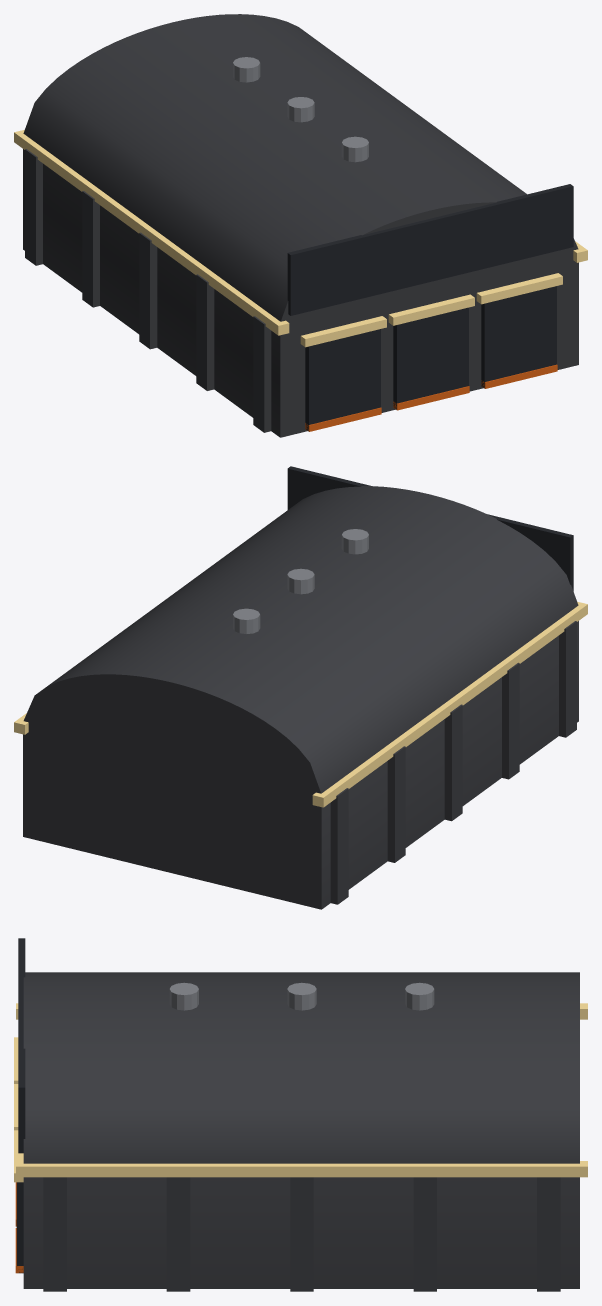
Rendered from dt_bld_hangar.fbx.
The picture shows the model from 3 angles, top to bottom: view 1: azimuth 30°, elevation 25°; view 2: azimuth 150°, elevation 25°; view 3: azimuth 270°, elevation 25°; orthographic projection. The views are drawn at different scales.
Parts seen in each view (by area): view 1: concrete_1, panel_1, gold_1, steel_1, orange_1; view 2: concrete_1, gold_1, panel_1, steel_1; view 3: concrete_1, gold_1, steel_1, panel_1.
Boxes of the visible parts, box(x1,y1,x2,y2) form: concrete_1: box(23, 14, 578, 437); panel_1: box(287, 184, 573, 431); gold_1: box(14, 130, 587, 347); steel_1: box(233, 57, 368, 162); orange_1: box(305, 364, 557, 431); concrete_1: box(23, 486, 578, 909); gold_1: box(14, 601, 587, 807); panel_1: box(287, 466, 573, 590); steel_1: box(233, 529, 368, 633); concrete_1: box(23, 972, 579, 1291); gold_1: box(14, 1003, 587, 1182); steel_1: box(169, 982, 434, 1010); panel_1: box(16, 938, 25, 1273).
Size of the model in its own units: 1.98 by 1.25 by 2.93.
